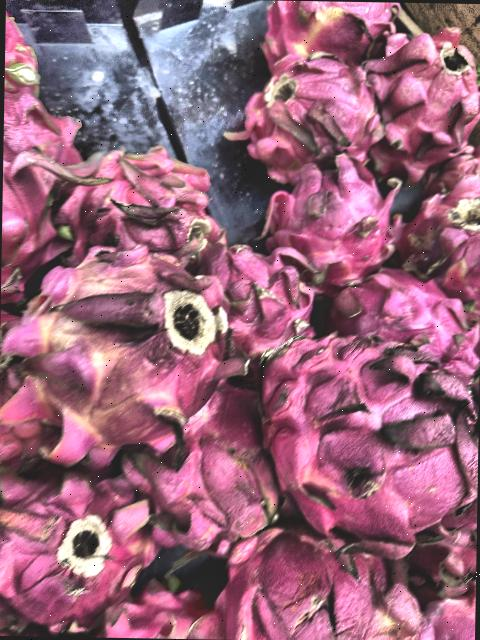buah-naga-belum-matang: (4, 246, 227, 458), (256, 1, 390, 62)
buah-naga-matang: (234, 324, 474, 534), (0, 461, 157, 624), (230, 524, 433, 640), (34, 137, 216, 255), (254, 150, 398, 275), (329, 256, 480, 373), (244, 46, 376, 164), (373, 18, 480, 163), (125, 436, 275, 538), (194, 232, 312, 356), (2, 96, 76, 253), (413, 161, 480, 274)
